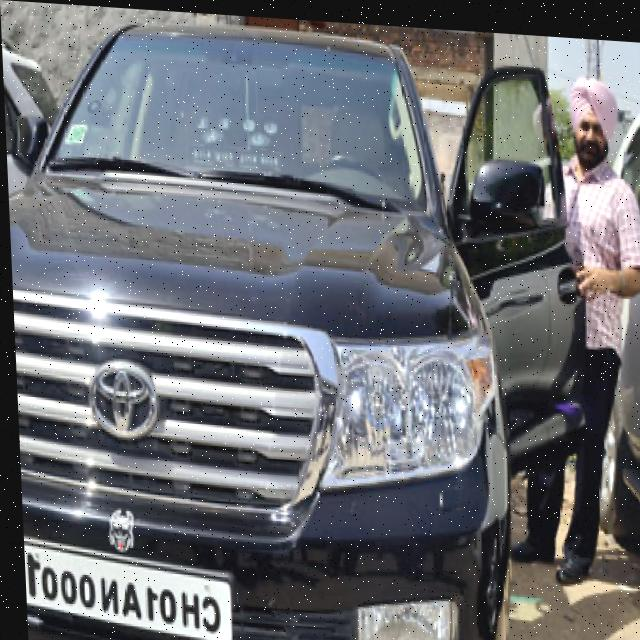plate: (19, 534, 231, 640)
